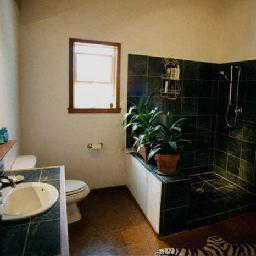Ducha: (183, 2, 254, 228)
Lavamanos: (2, 168, 57, 225)
Matera: (153, 118, 182, 174), (128, 104, 154, 160)
